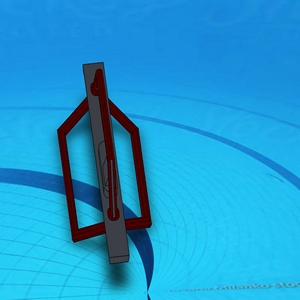submarine: (54, 56, 155, 262)
